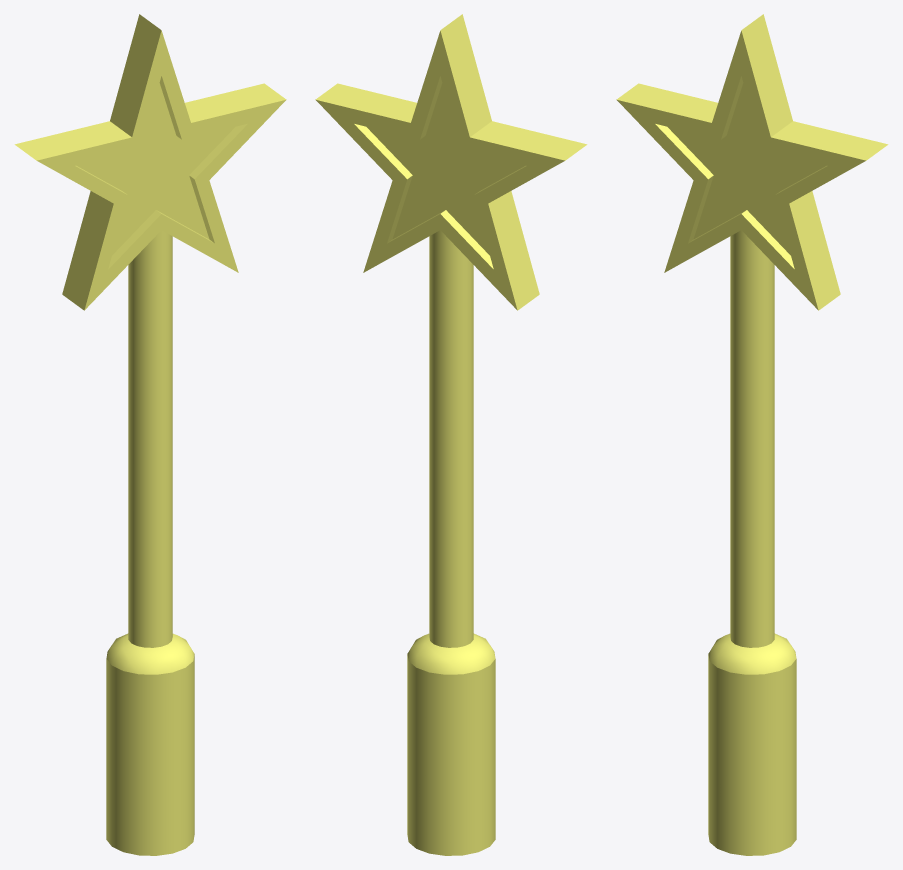
3 views of the same model, side by side, from view 1: azimuth 30°, elevation 25°; view 2: azimuth 150°, elevation 25°; view 3: azimuth 330°, elevation 25° (orthographic).
Parts seen in each view (by area): view 1: 6124.dat; view 2: 6124.dat; view 3: 6124.dat.
Boxes of the visible parts, x1,y1,x2,y2 form: 6124.dat: (14, 14, 286, 855); 6124.dat: (315, 14, 587, 855); 6124.dat: (616, 14, 888, 855).
Bounding box in the file's own units: 0.0104 × 0.0324 × 0.0032.
